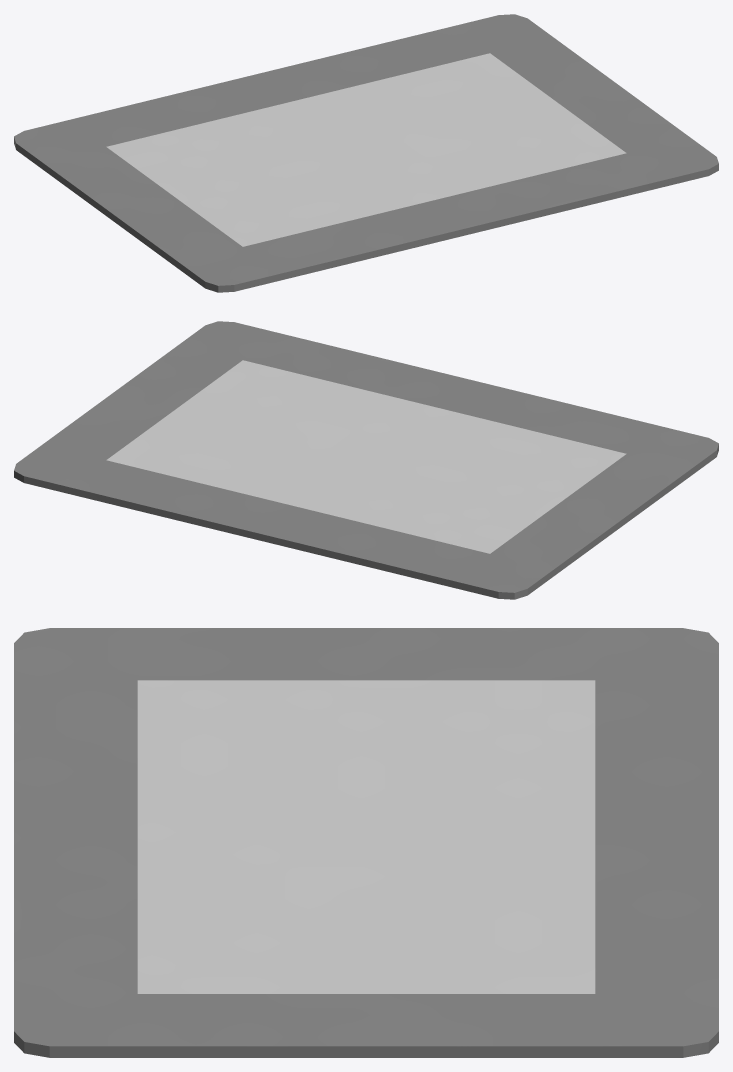
The model's file is Carpet_01_02.fbx.
3 views of the same model, one above another, from view 1: azimuth 30°, elevation 25°; view 2: azimuth 150°, elevation 25°; view 3: azimuth 270°, elevation 25° (orthographic). The views are drawn at different scales.
Visible parts, largest first — view 1: Carpet_01_02; view 2: Carpet_01_02; view 3: Carpet_01_02.
Part boxes in pixels (x1,y1,x2,y2): Carpet_01_02: [14, 14, 718, 292]; Carpet_01_02: [14, 321, 718, 599]; Carpet_01_02: [14, 628, 718, 1057].
Size of the model in its own units: 1.56 by 0.0201 by 1.11.
